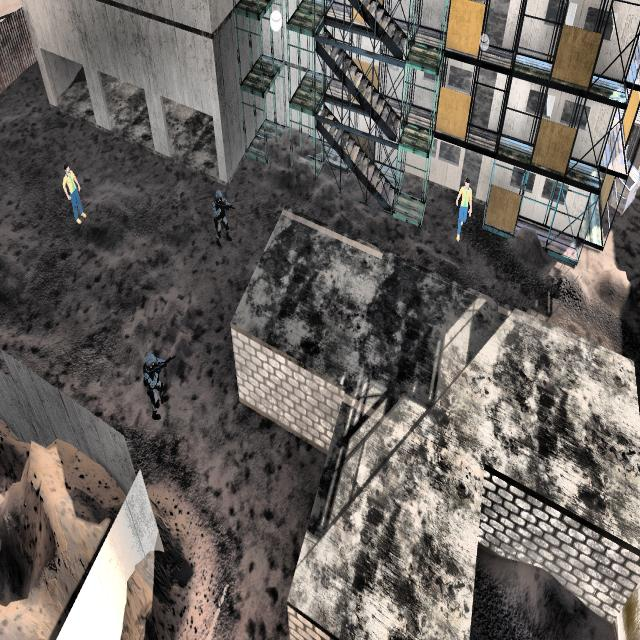bad: (137, 338, 176, 428), (207, 176, 237, 257)
good: (56, 146, 92, 236), (448, 166, 475, 248)
